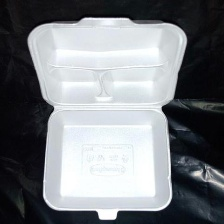foam_box: (20, 11, 196, 224)
